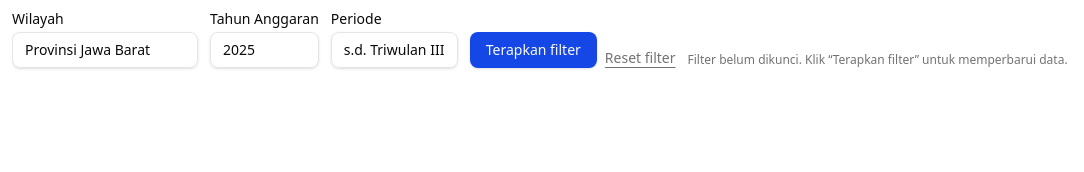
Scenario: FilterBar › reset filter mengembalikan ke default dan membuka kunci
Select "Semua Wilayah" in the dropdown labelled "Wilayah": (105, 50) [12,32,198,68]
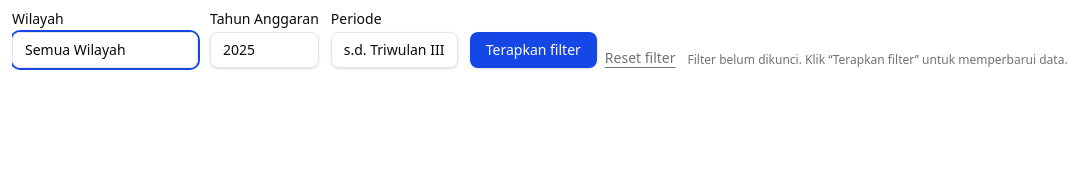
Click the button "Terapkan filter": (533, 50) [470,32,597,68]
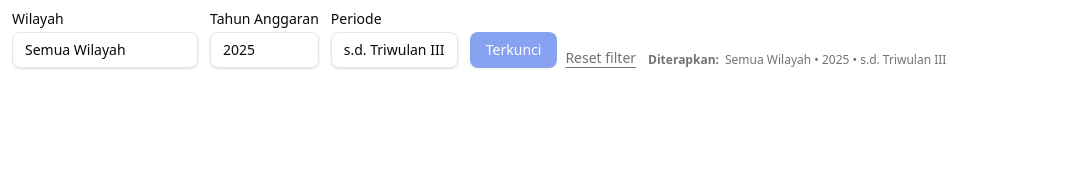
Expected: the button "Terkunci" is shown, [470,32,557,68]
Click the link "Reset filter": (601, 58) [565,48,636,68]
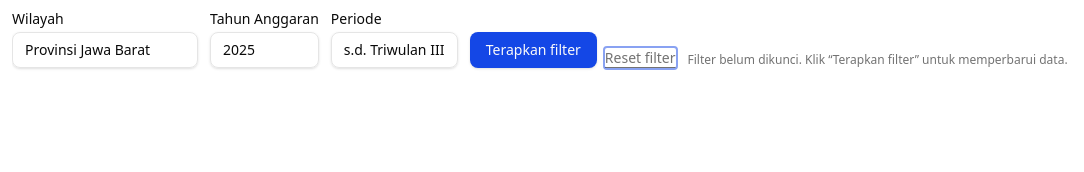
Expected: the button "Terapkan filter" is shown, [470,32,597,68]
Expected: the text "Diterapkan:" is gone
